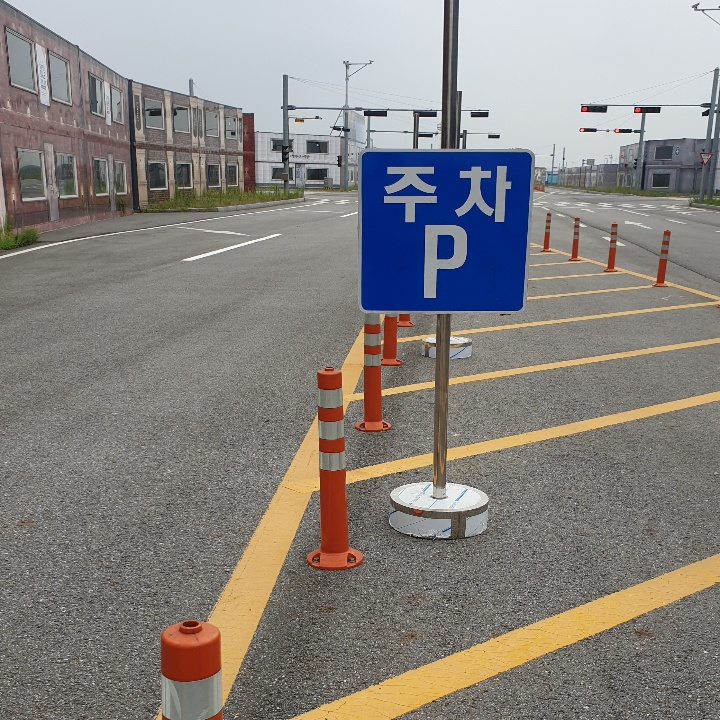parking: (415, 215, 473, 307)
